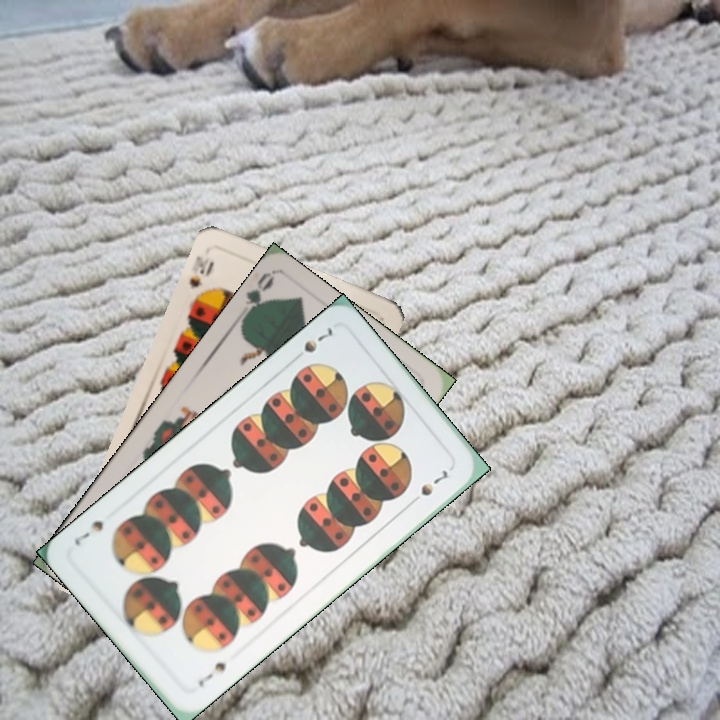GO: (237, 268, 276, 326)
S10: (185, 251, 217, 306)
S7: (299, 323, 336, 356), (194, 657, 229, 690)
